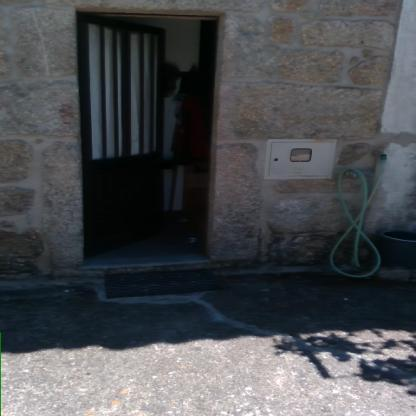semi: (69, 3, 233, 268)
